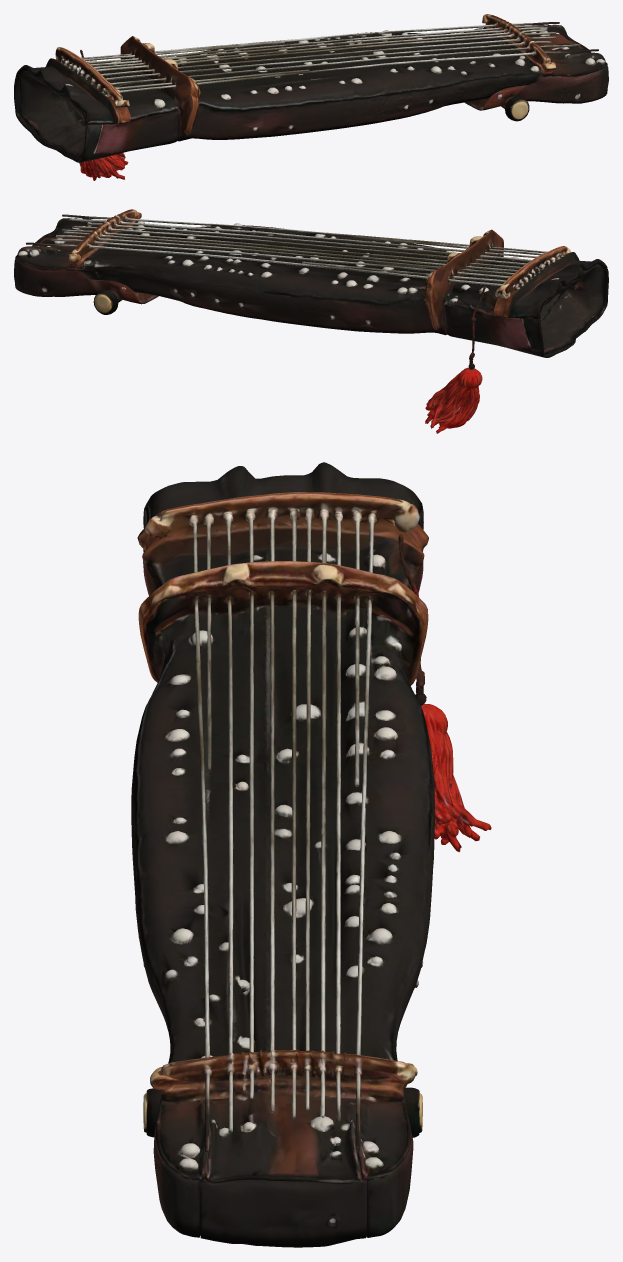
The model's file is w-guqin.glb.
The picture shows the model from 3 angles, top to bottom: view 1: azimuth 30°, elevation 25°; view 2: azimuth 150°, elevation 25°; view 3: azimuth 270°, elevation 25°; orthographic projection. The views are drawn at different scales.
Parts seen in each view (by area): view 1: tripo_node_11396f9e-b9bb-481d-bec5-380ddaccb7ac; view 2: tripo_node_11396f9e-b9bb-481d-bec5-380ddaccb7ac; view 3: tripo_node_11396f9e-b9bb-481d-bec5-380ddaccb7ac.
Boxes of the visible parts, bbox=[...] form: tripo_node_11396f9e-b9bb-481d-bec5-380ddaccb7ac: bbox=[14, 14, 608, 180]; tripo_node_11396f9e-b9bb-481d-bec5-380ddaccb7ac: bbox=[14, 209, 608, 433]; tripo_node_11396f9e-b9bb-481d-bec5-380ddaccb7ac: bbox=[131, 462, 491, 1247].
Size of the model in its own units: 0.9816 by 0.2611 by 0.2838.
Materials: 1 (1 with a texture image).
